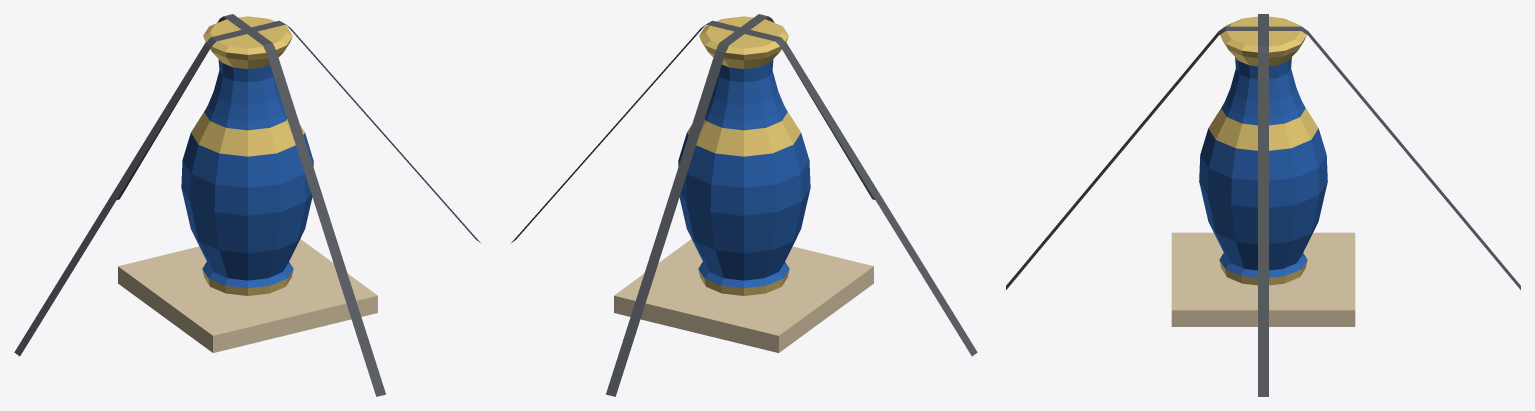
The model's file is ornate-vase.glb.
The picture shows the model from 3 angles, left to right: view 1: azimuth 30°, elevation 25°; view 2: azimuth 150°, elevation 25°; view 3: azimuth 270°, elevation 25°; orthographic projection. The views are drawn at different scales.
Visible parts, largest first — view 1: OrnateVase; view 2: OrnateVase; view 3: OrnateVase.
Part boxes in pixels (box(x1,y1,x2,y2)): OrnateVase: box(14, 14, 480, 396); OrnateVase: box(511, 14, 977, 396); OrnateVase: box(1006, 14, 1520, 396).
Bounding box in the file's own units: 1.4 × 0.778 × 1.4.
